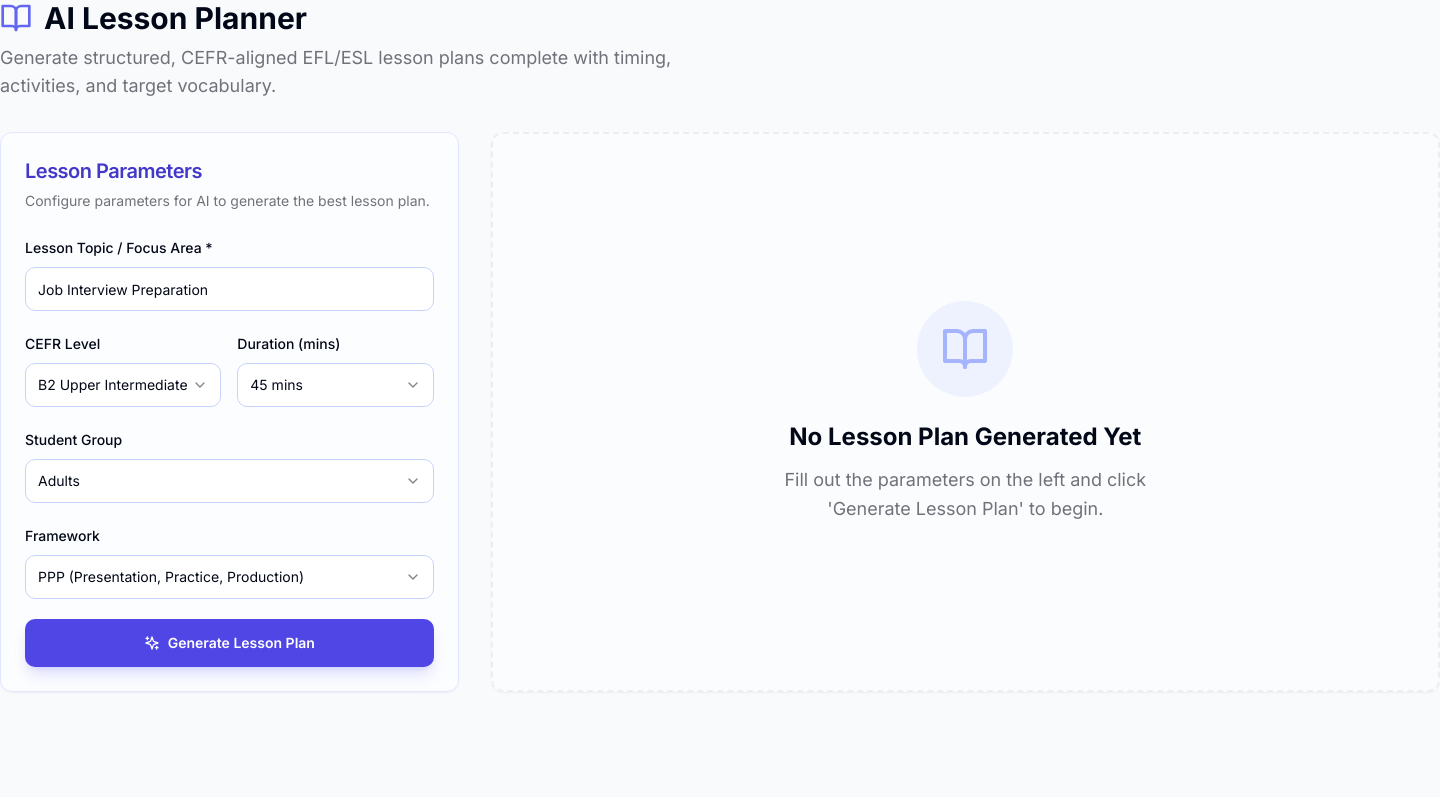
Test: LessonPlanner Component › submits form and displays generated lesson plan stages
Replace the text in the field labelled "Lesson Topic / Focus Area *" with "Shopping & Clothes": {"x": 229, "y": 289} [25,267,434,311]
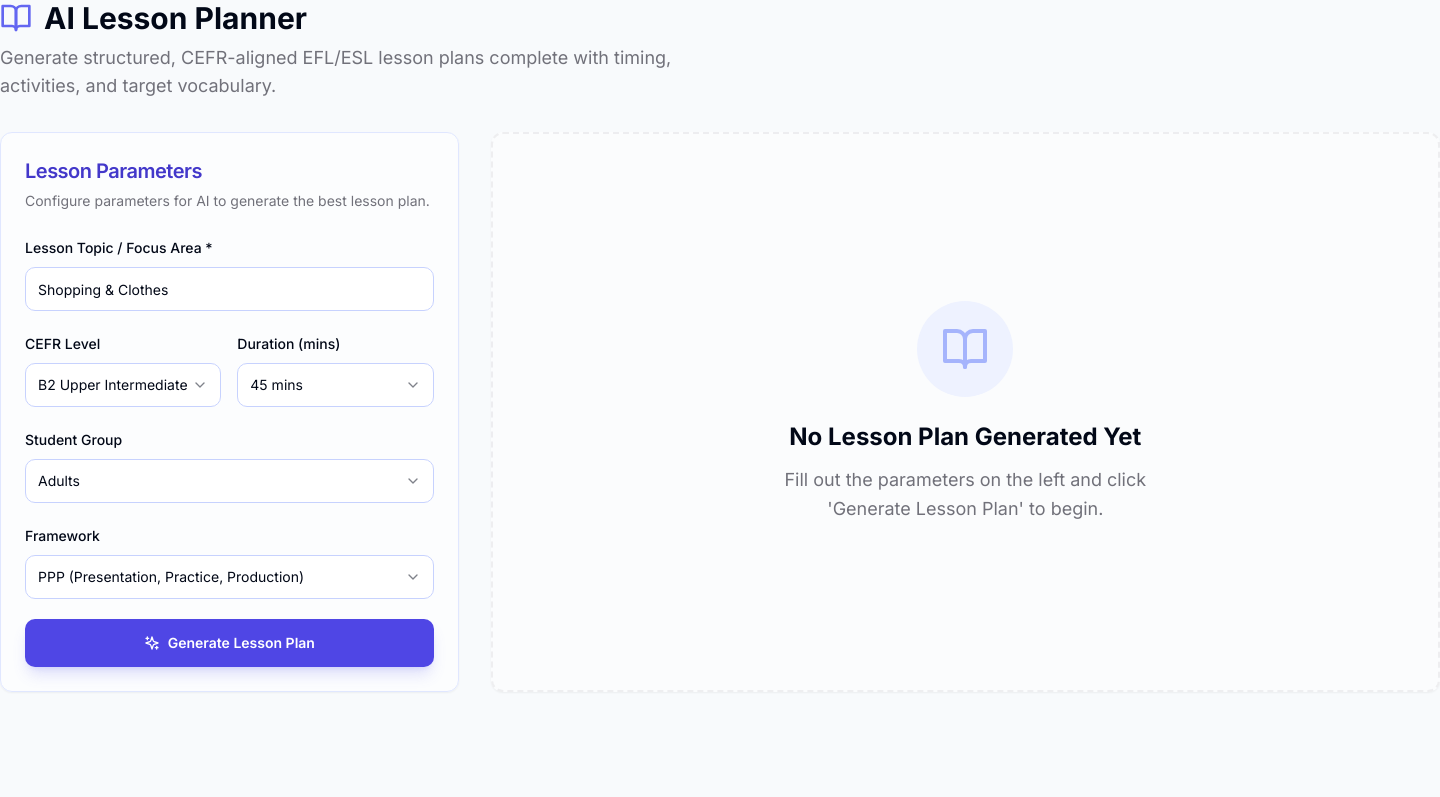
Click the button "Generate Lesson Plan": {"x": 229, "y": 643} [25,619,434,667]
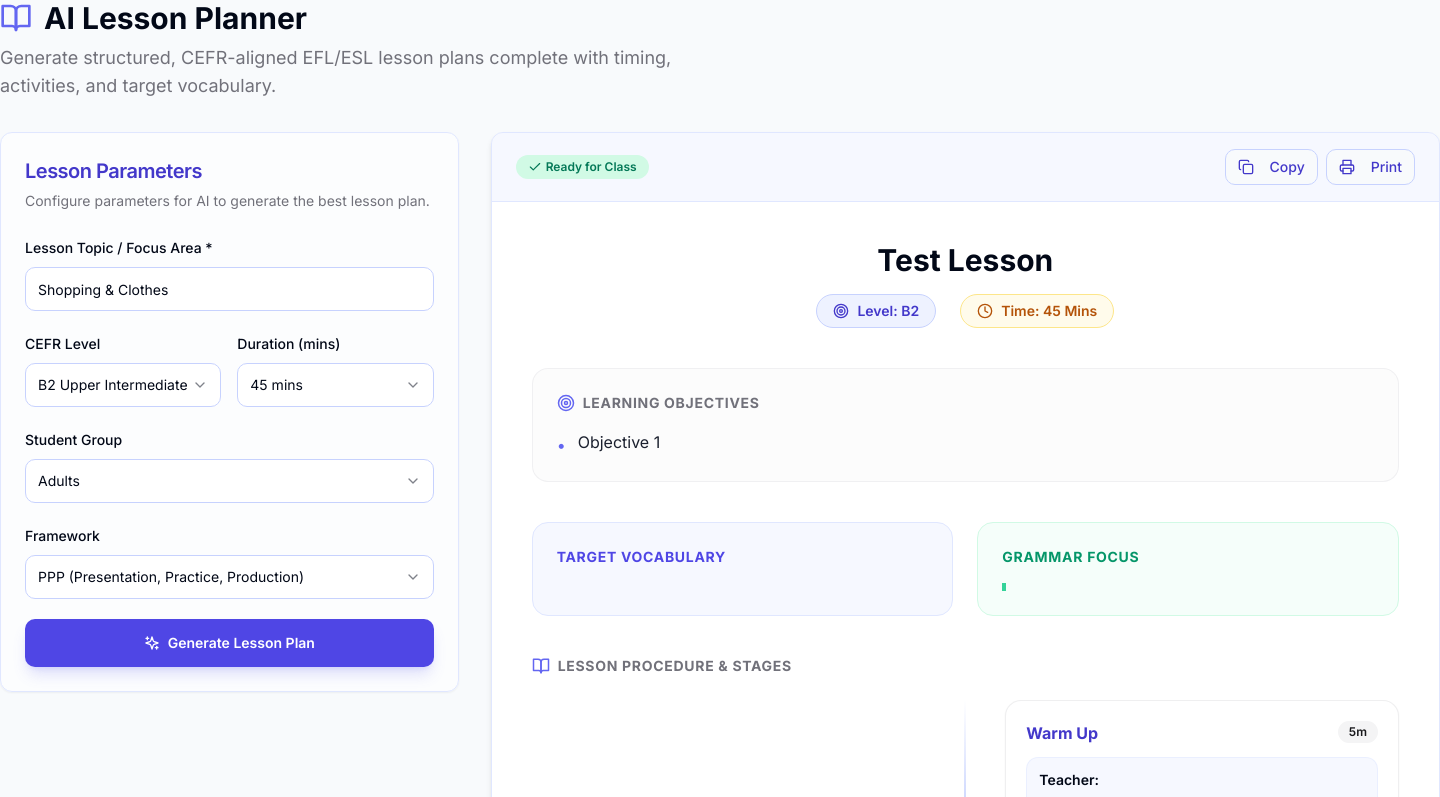
Check: the text "Ready for Class" is shown, box [516,155,649,179]
